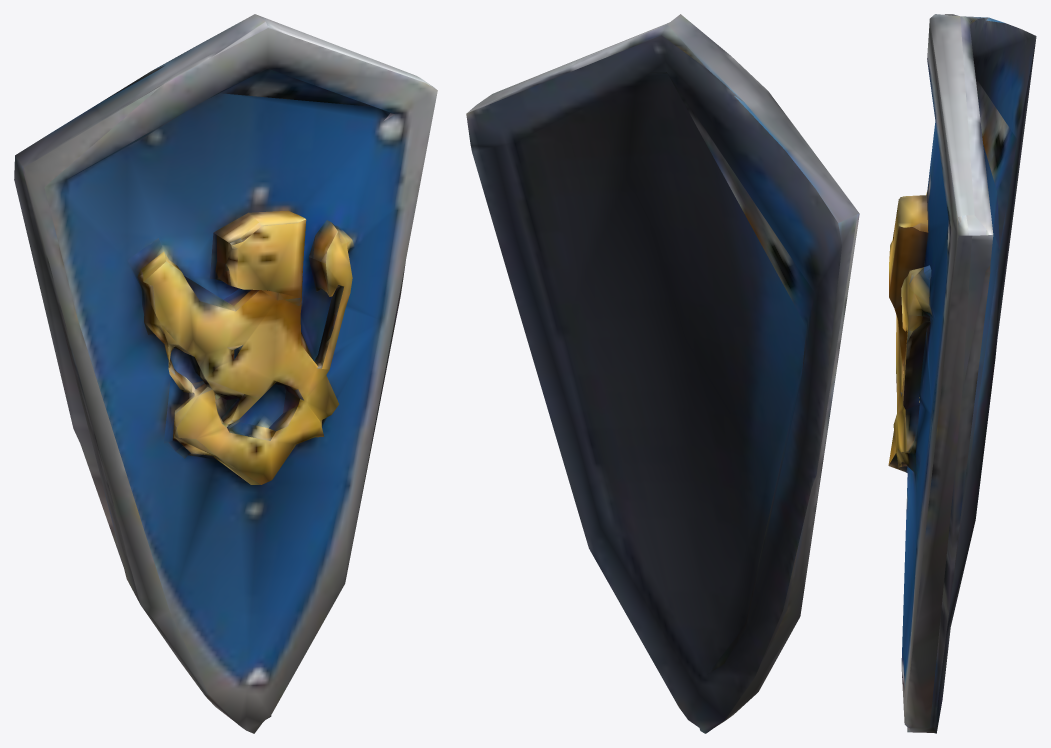
Rendered from cave_party_shield_1120.glb.
The picture shows the model from 3 angles, left to right: view 1: azimuth 30°, elevation 25°; view 2: azimuth 150°, elevation 25°; view 3: azimuth 270°, elevation 25°; orthographic projection. The views are drawn at different scales.
Parts seen in each view (by area): view 1: cave_party_shield_1120; view 2: cave_party_shield_1120; view 3: cave_party_shield_1120.
Part boxes in pixels (x1=…): cave_party_shield_1120: x1=14, y1=14, x2=437, y2=733; cave_party_shield_1120: x1=466, y1=14, x2=859, y2=733; cave_party_shield_1120: x1=888, y1=14, x2=1036, y2=733.
Bounding box in the file's own units: 0.5881 × 1 × 0.1833.
1 material, 1 textured.
